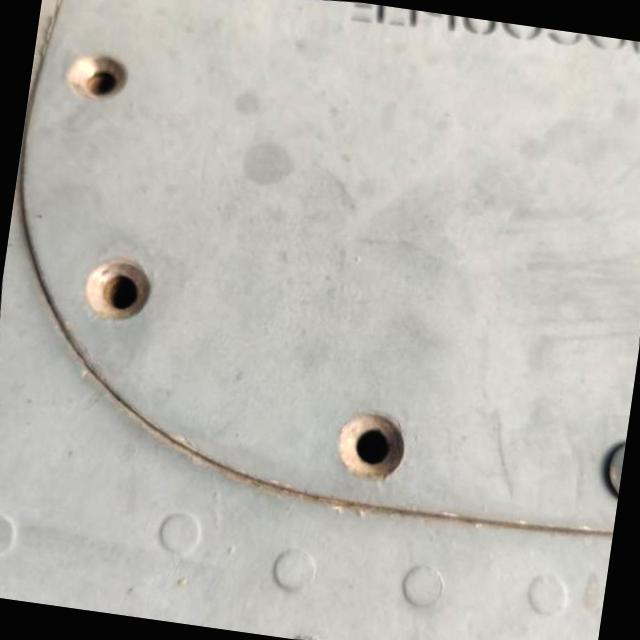Missing Fastener: (328, 406, 412, 488), (75, 253, 155, 327), (58, 42, 134, 114)
